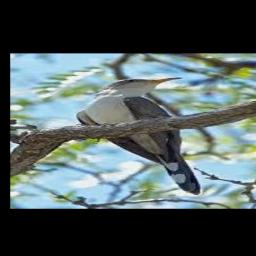Cuckoo: (77, 77, 202, 195)
